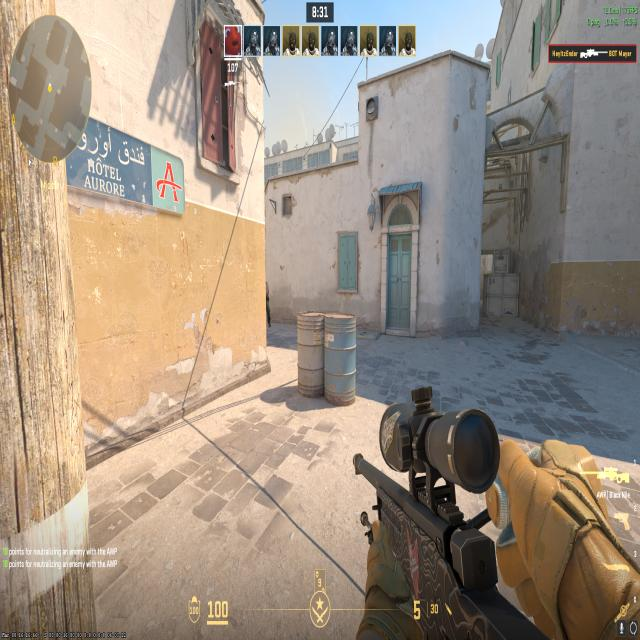t: (266, 275, 272, 326)
